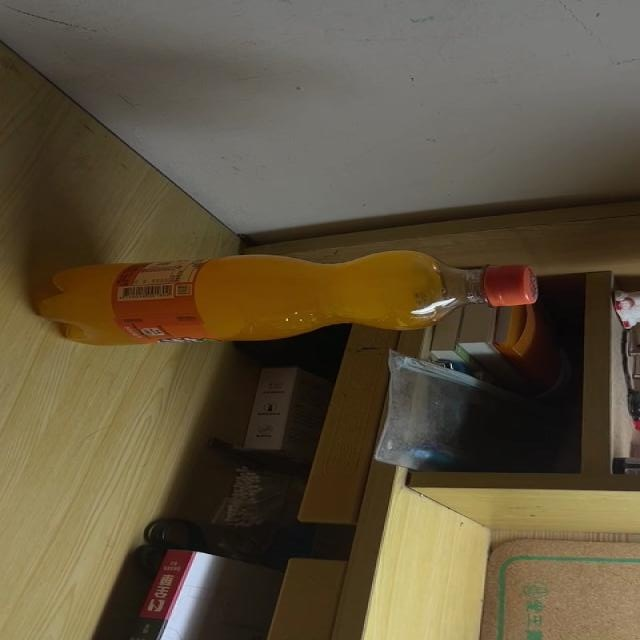Fanta: (35, 247, 540, 347)
